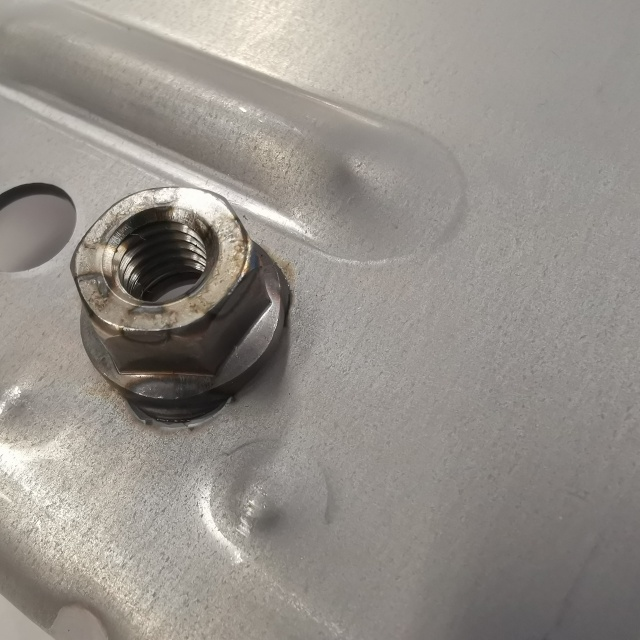dog: (68, 179, 298, 426)
